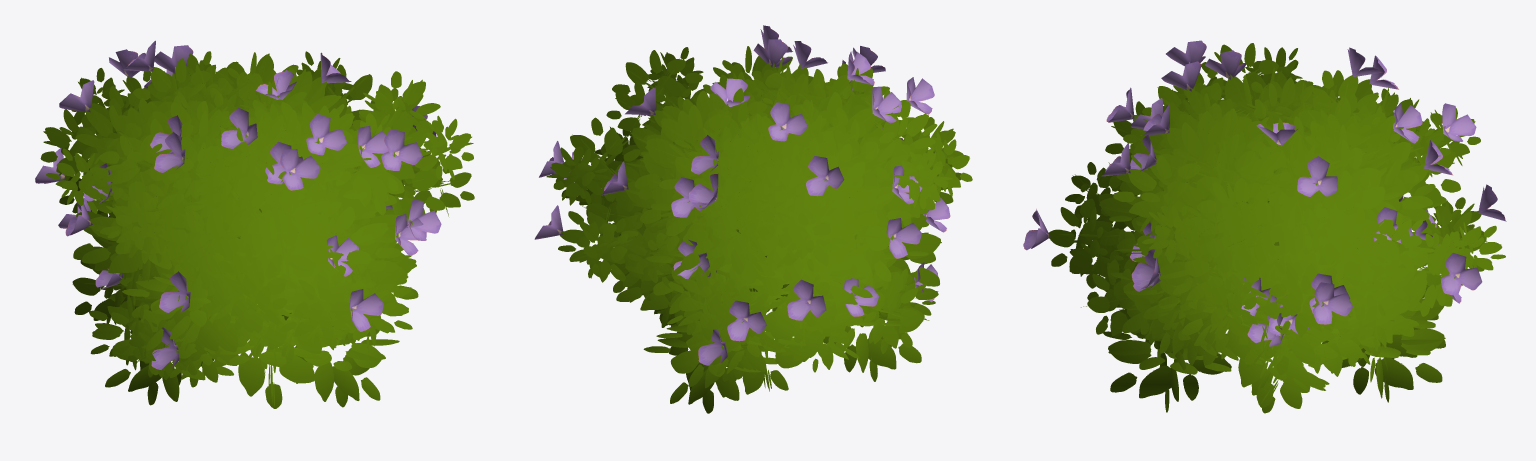
File: Bush_Common_Flowers.gltf
3 views of the same model, side by side, from view 1: azimuth 30°, elevation 25°; view 2: azimuth 150°, elevation 25°; view 3: azimuth 270°, elevation 25° (orthographic). The views are drawn at different scales.
Parts seen in each view (by area): view 1: Bush_Common_Flowers; view 2: Bush_Common_Flowers; view 3: Bush_Common_Flowers.
Boxes of the visible parts, x1,y1,x2,y2 form: Bush_Common_Flowers: (35,40,474,408); Bush_Common_Flowers: (534,25,972,413); Bush_Common_Flowers: (1023,40,1506,413).
Size of the model in its own units: 1.91 by 1.58 by 1.97.
Materials: 2 (2 with a texture image).
